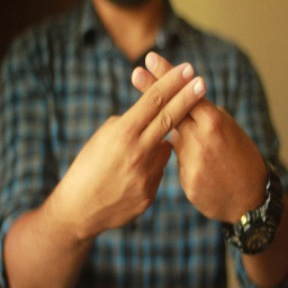F: (111, 46, 232, 177)
